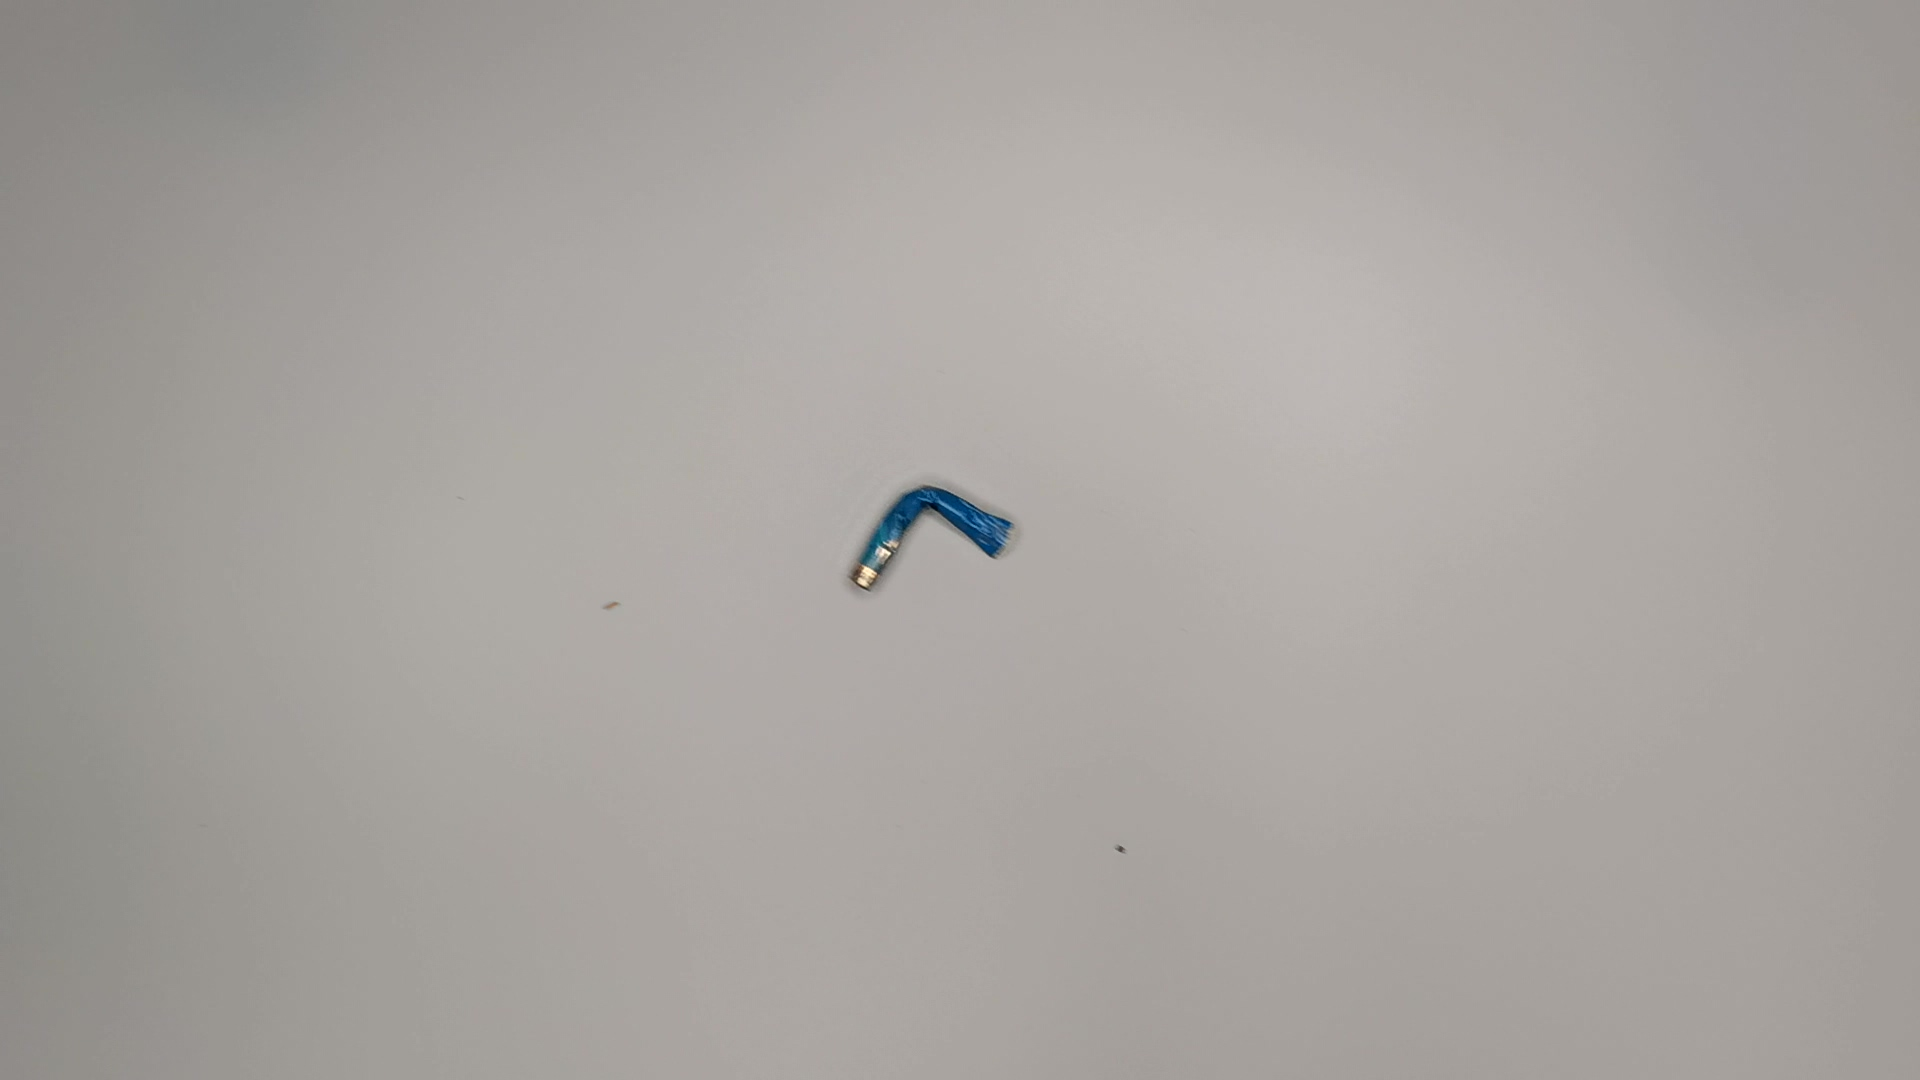cigarette: (837, 485, 1047, 611)
